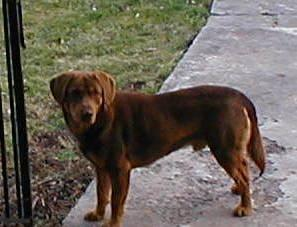dog: (48, 71, 268, 227)
